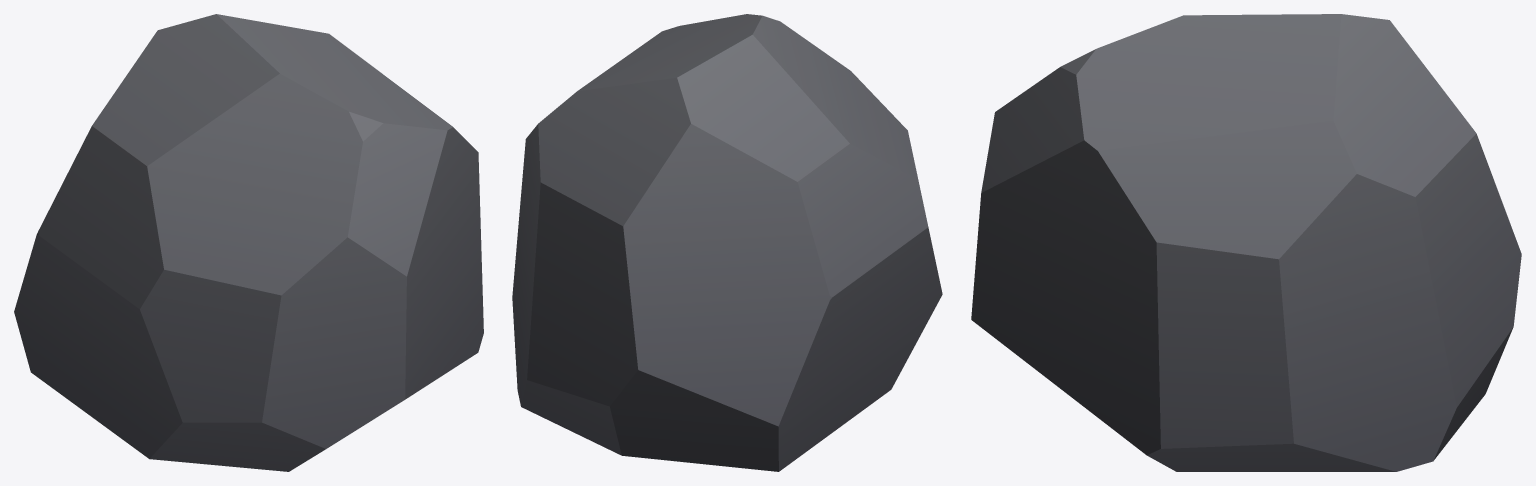
Rendered from Rock_01.fbx.
The picture shows the model from 3 angles, left to right: view 1: azimuth 30°, elevation 25°; view 2: azimuth 150°, elevation 25°; view 3: azimuth 270°, elevation 25°; orthographic projection. The views are drawn at different scales.
Parts seen in each view (by area): view 1: Rock_01_LOD0; view 2: Rock_01_LOD0; view 3: Rock_01_LOD0.
Part boxes in pixels (left/top/right/bottom): Rock_01_LOD0: left=14, top=14, right=483, bottom=471; Rock_01_LOD0: left=512, top=14, right=942, bottom=471; Rock_01_LOD0: left=971, top=14, right=1521, bottom=471.
Size of what is drawn, in the model's own units: 0.7338 by 0.6732 by 0.8685.
